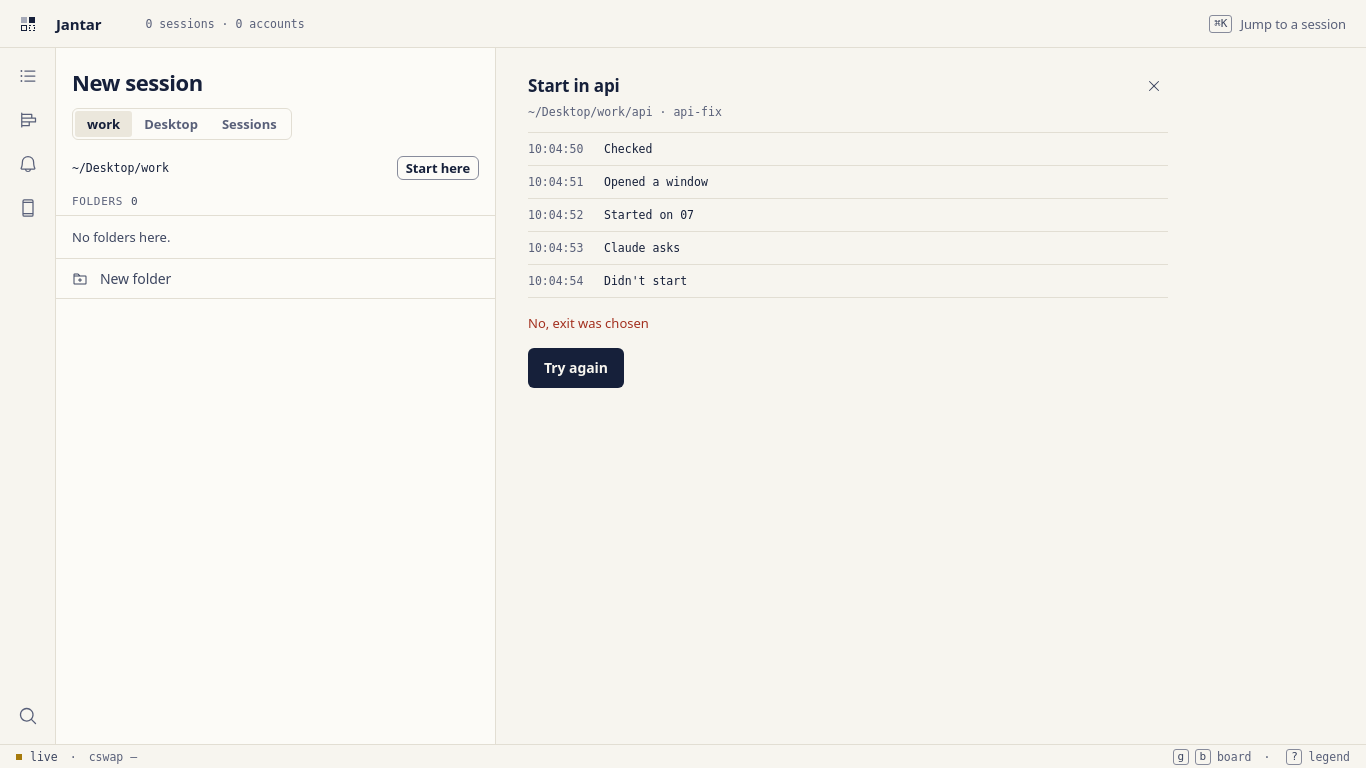
receipt: failures › Try again starts the form with the failed launch's first prompt, Name and account
The width and height of the screenshot is (1366, 768).
Click the button "Try again": coordinates (576, 368) 528,348 -> 624,388
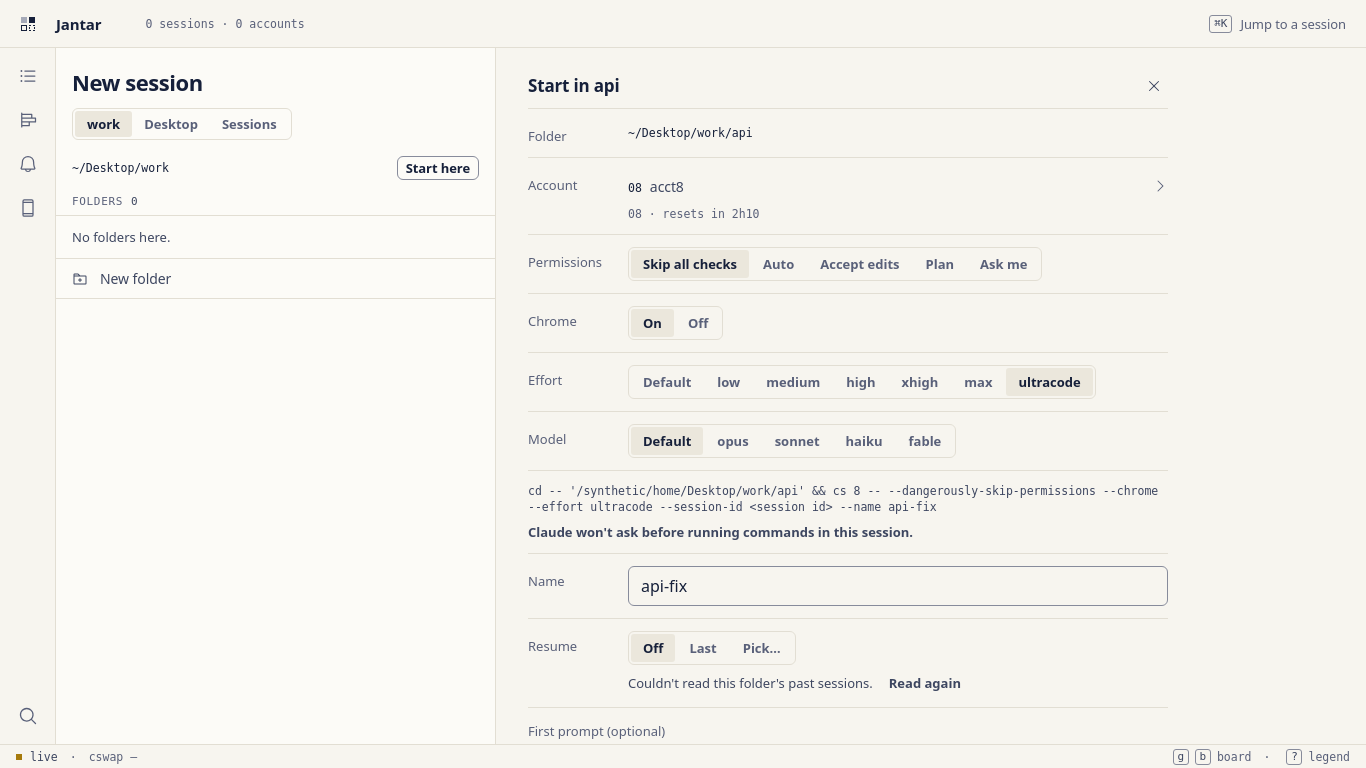
Expected: the field labelled "Name" holds "api-fix", 628,566 -> 1168,606
